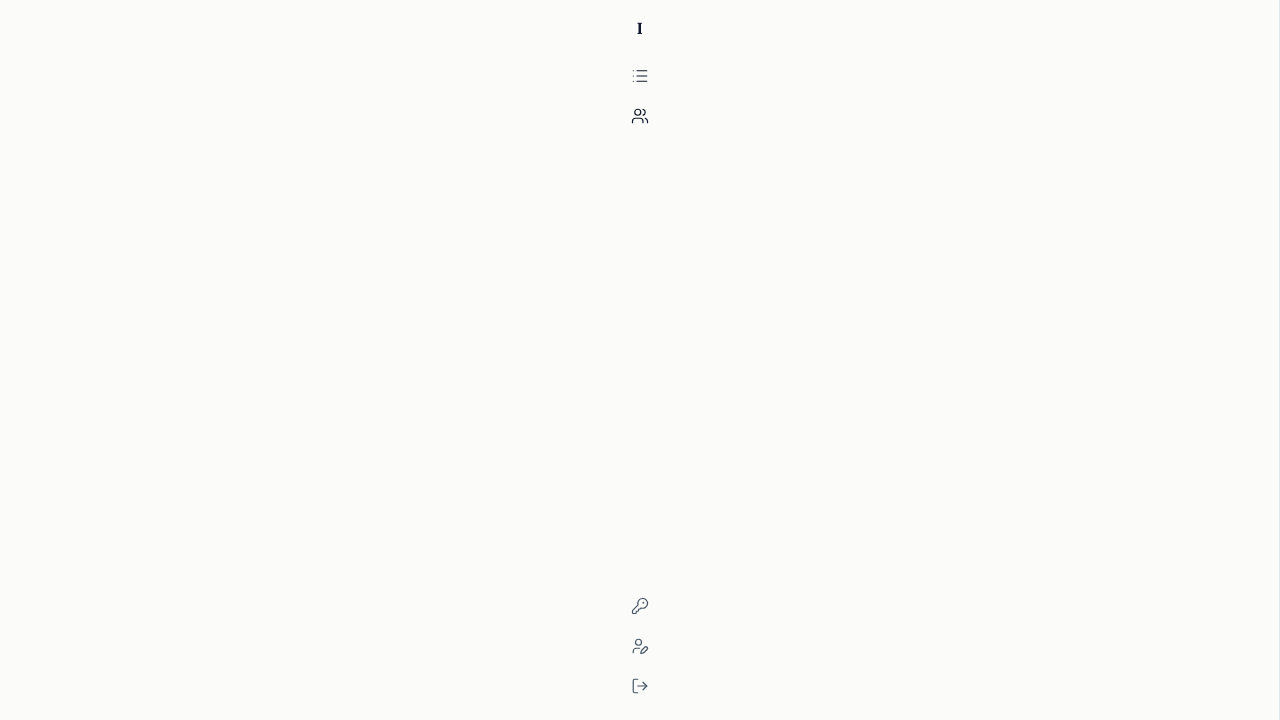
Scenario: Rail › l'icône crayon ouvre la fenêtre de changement de nom, Annuler la ferme
The image size is (1280, 720).
Click the button named "Changer mon nom". click: (640, 646)
box: [622, 628, 658, 664]
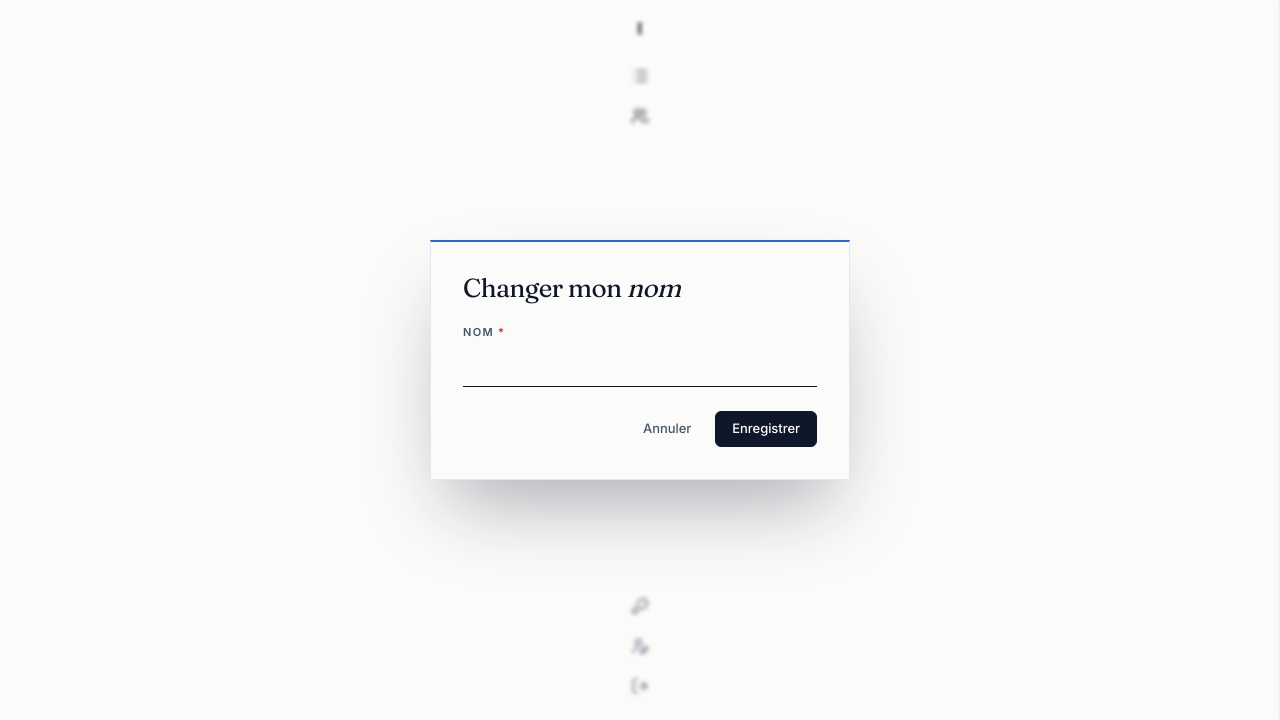
expect the dialog is shown: met, box [430, 240, 850, 480]
Click the button "Annuler". click: (667, 429)
box: [627, 411, 707, 447]
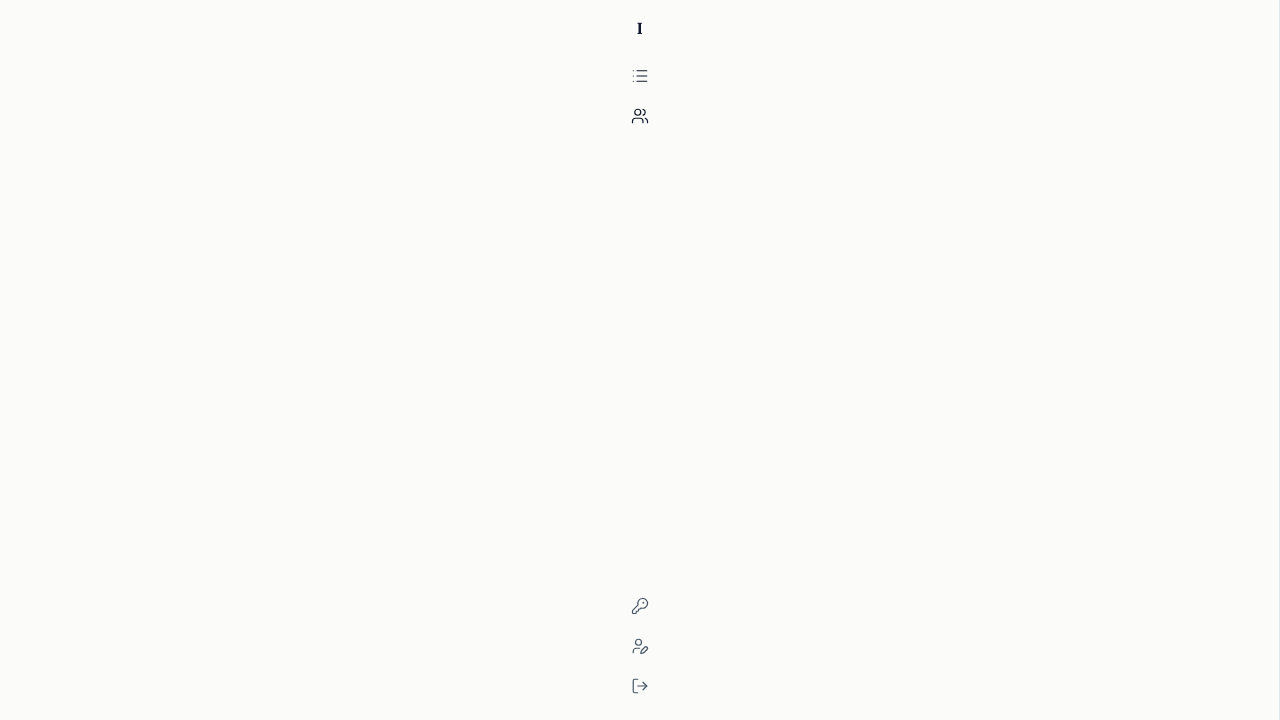
expect the dialog is gone: met
